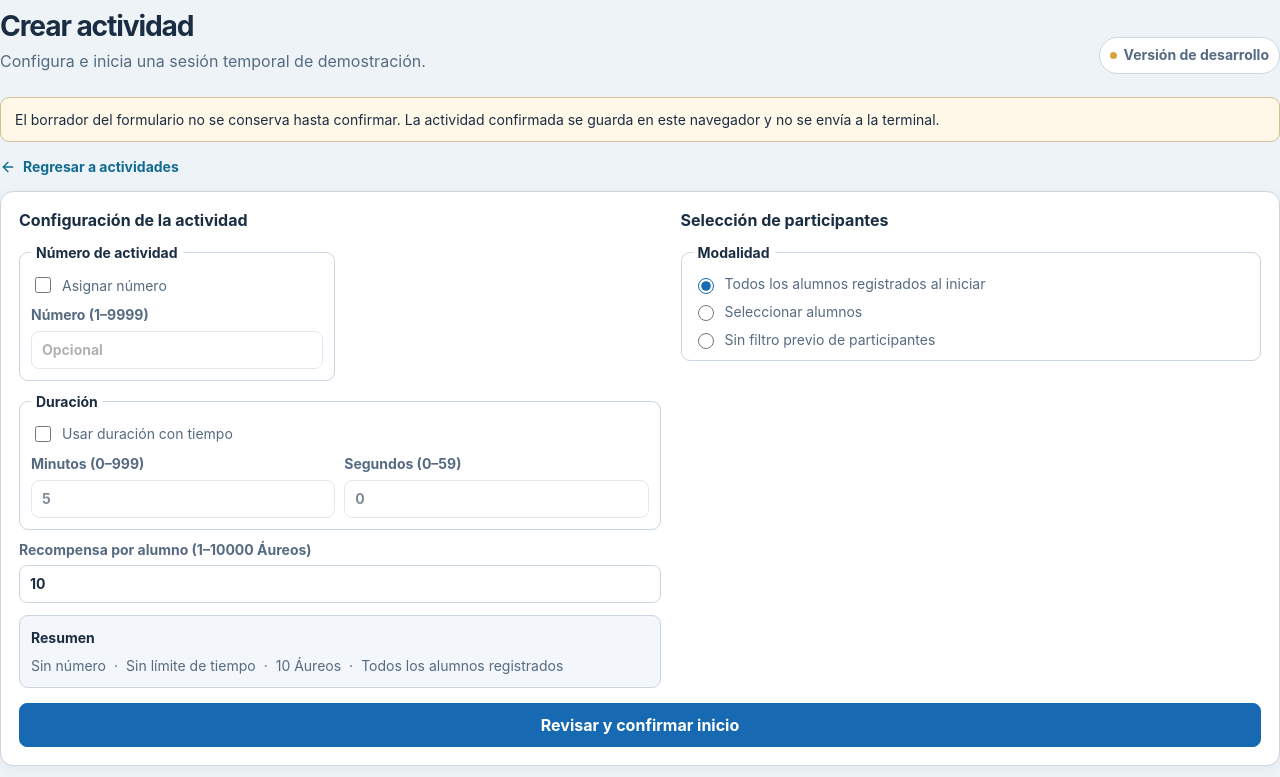
Test: PM.6 interfaz de actividades › conserva el borrador cuando falla crear la actividad
This screenshot has width=1280, height=777.
Replace the text in the number field labelled "Recompensa por alumno (1–10000 Áureos)" with "37" at [340, 584], box [19, 565, 660, 603]
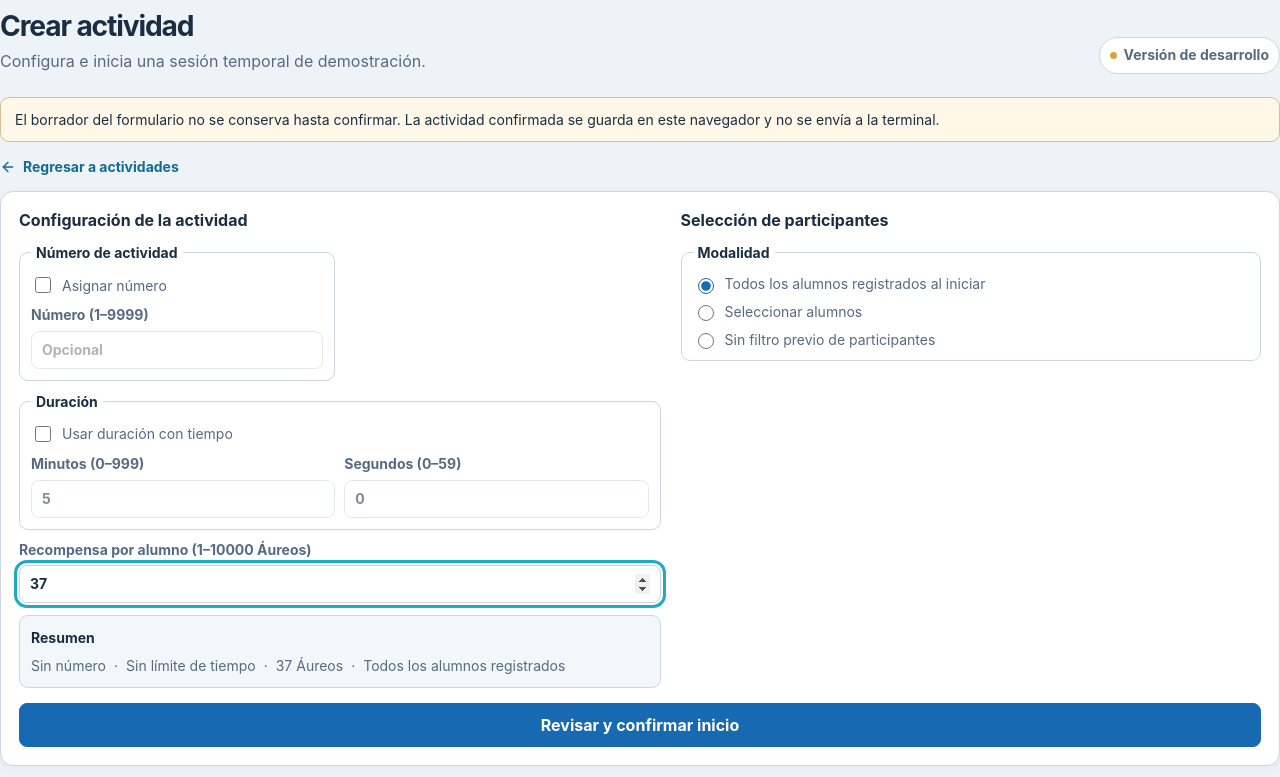
Click the button "Revisar y confirmar inicio".
click(640, 725)  # box [19, 703, 1261, 747]
(page scrolled)
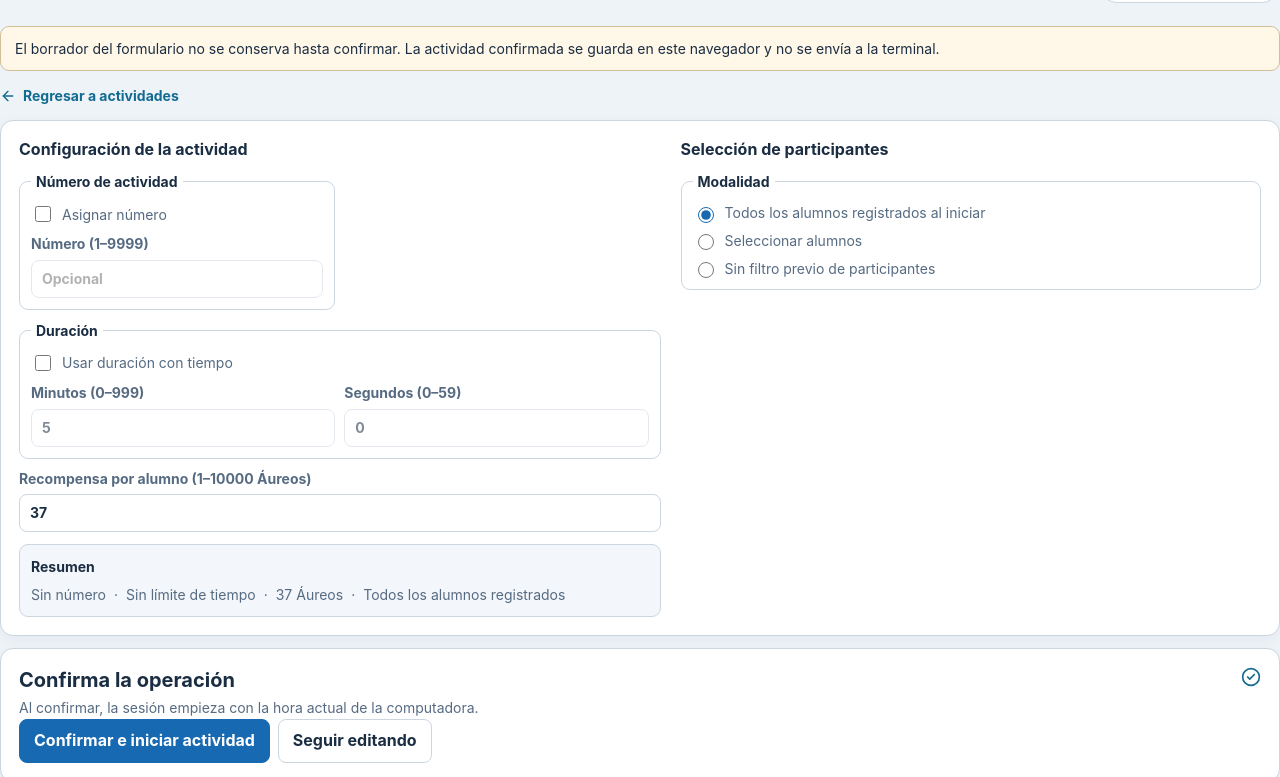
Click the button "Confirmar e iniciar actividad".
click(144, 741)  # box [19, 719, 270, 763]
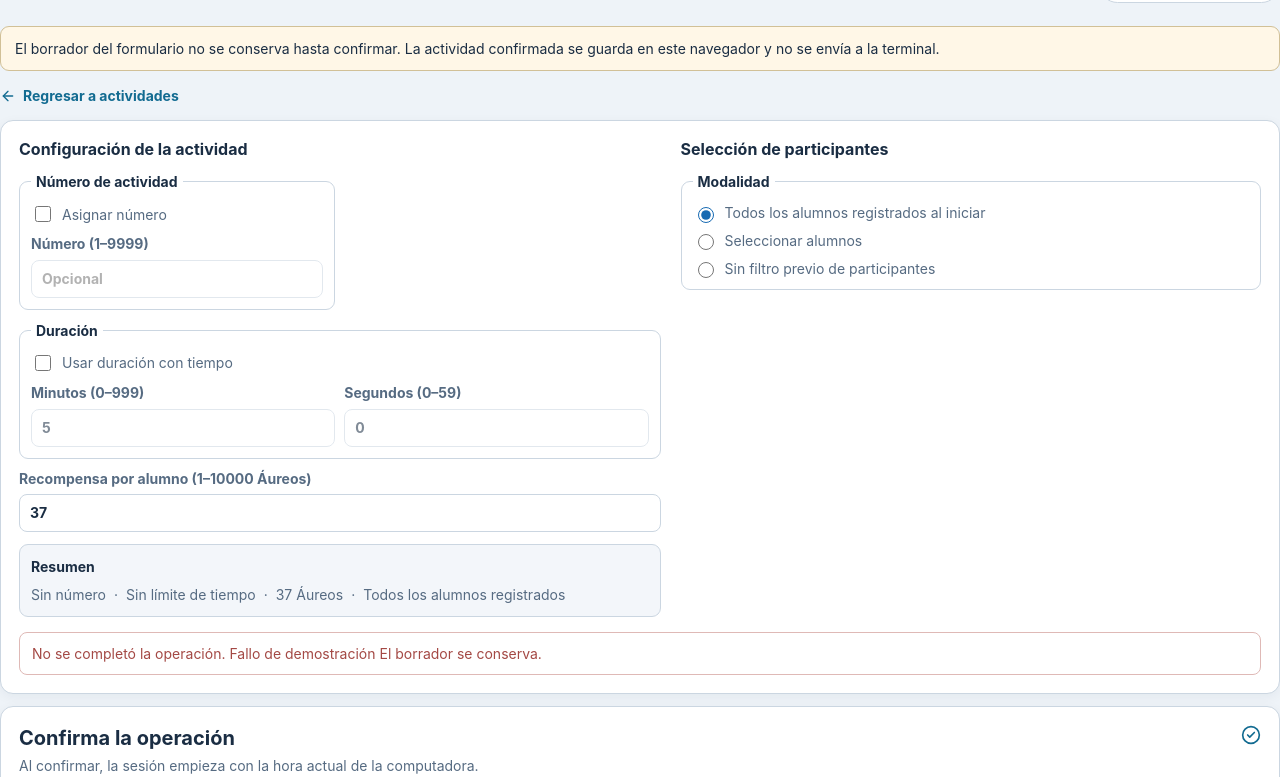
Now the message shows "Fallo de demostración", box [229, 645, 376, 662]
